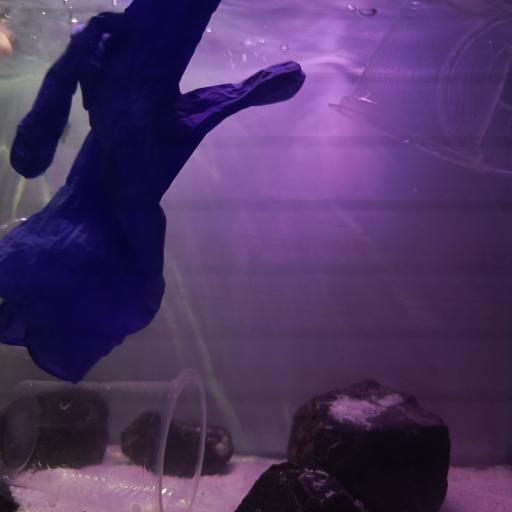glove: (2, 0, 306, 386)
plastic_cup: (327, 0, 512, 175), (0, 365, 208, 509)
